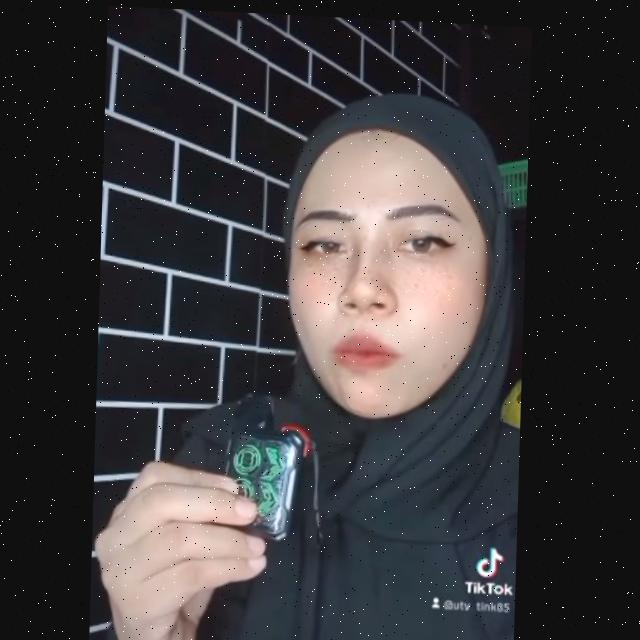vape: (218, 391, 319, 540)
